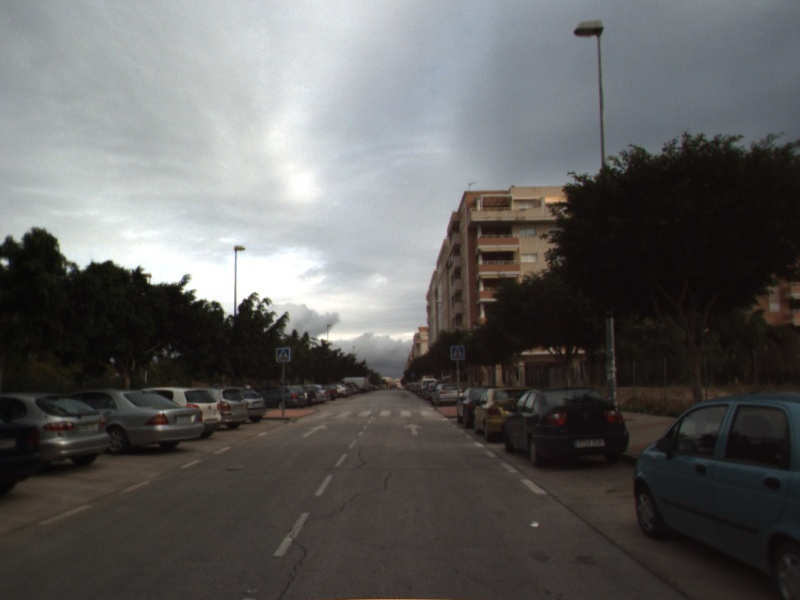STRAIGHT: (299, 422, 331, 439), (401, 421, 425, 437)
